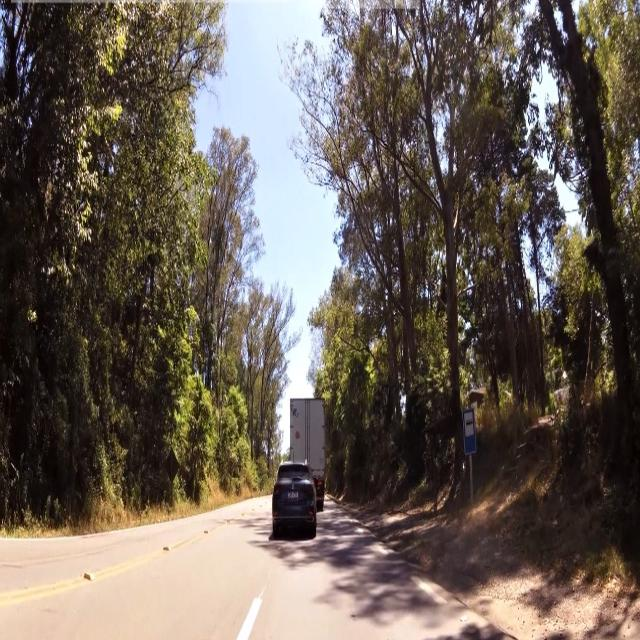S-14: (465, 412, 476, 451)
